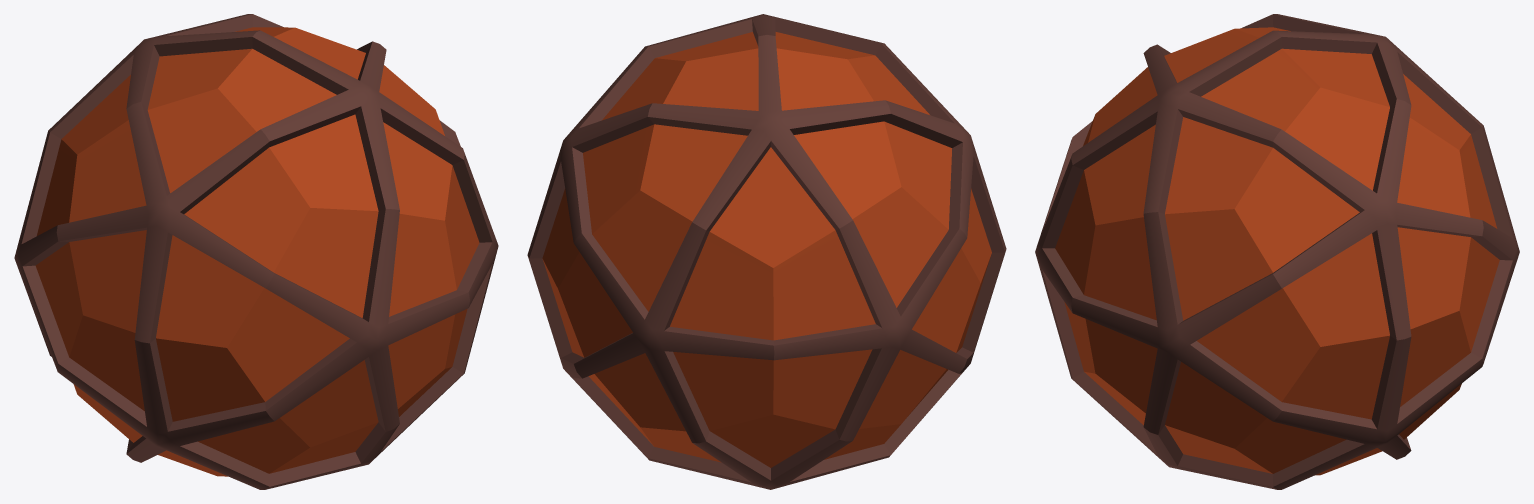
The model's file is FleshBall.fbx.
The picture shows the model from 3 angles, left to right: view 1: azimuth 30°, elevation 25°; view 2: azimuth 150°, elevation 25°; view 3: azimuth 270°, elevation 25°; orthographic projection.
Visible parts, largest first — view 1: pPlatonic1; view 2: pPlatonic1; view 3: pPlatonic1.
Part boxes in pixels (x1,y1,x2,y2): pPlatonic1: (14,14,498,489); pPlatonic1: (527,14,1006,489); pPlatonic1: (1035,14,1519,489).
Size of the model in its own units: 12.12 by 12.7 by 12.7.
